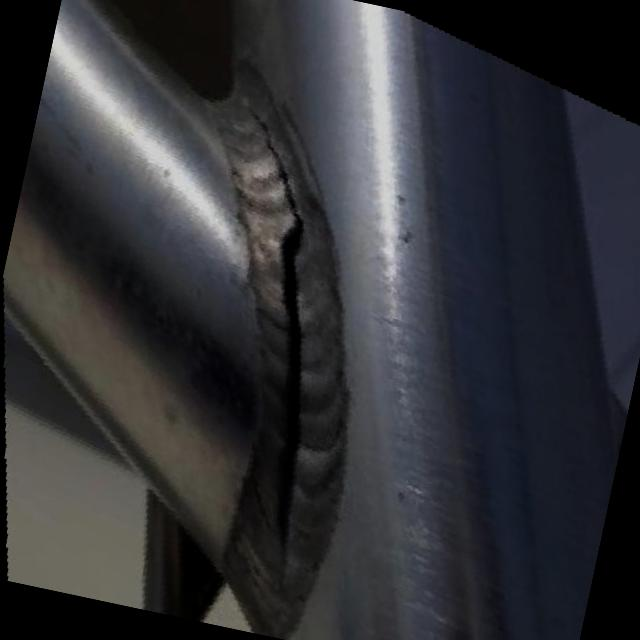crack: (252, 370, 327, 566), (266, 222, 325, 355), (263, 159, 304, 215), (246, 110, 282, 152)
